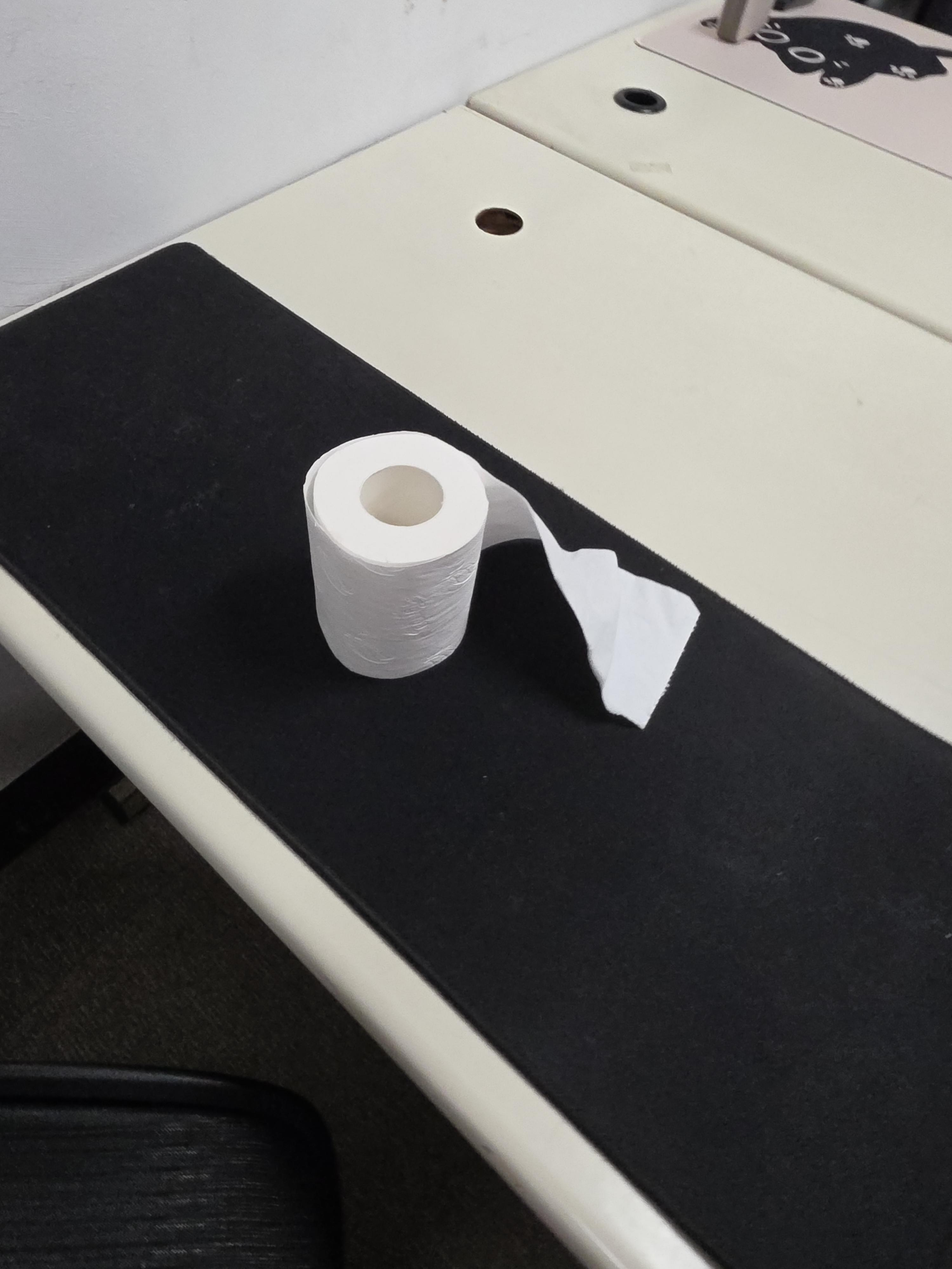tissue: (304, 431, 701, 730)
